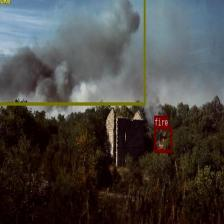fire: (154, 126, 172, 152)
smoke: (0, 0, 145, 105)
